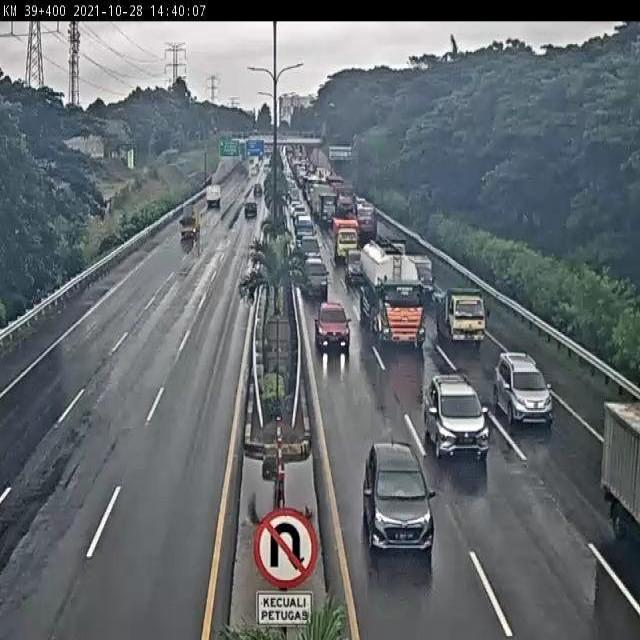car: (364, 443, 436, 552), (425, 374, 489, 450), (493, 354, 556, 426), (315, 300, 352, 349), (299, 256, 332, 300), (345, 249, 367, 287), (298, 233, 323, 264)
small truck: (177, 206, 201, 242)
truck-m-: (435, 289, 488, 344), (331, 216, 359, 261)
truck-s-: (403, 248, 435, 301)
truck-xl-: (356, 239, 427, 348)
